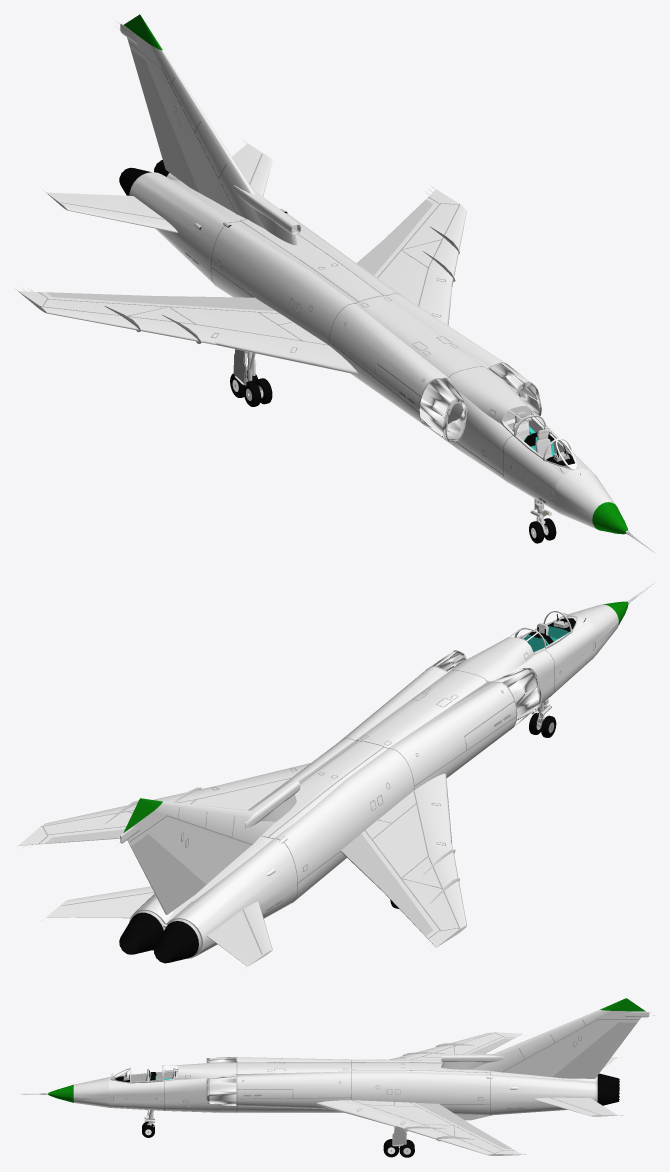
Rendered from deadPlane.fbx.
3 views of the same model, one above another, from view 1: azimuth 30°, elevation 25°; view 2: azimuth 150°, elevation 25°; view 3: azimuth 270°, elevation 25° (orthographic). The views are drawn at different scales.
Parts seen in each view (by area): view 1: J-2 000_mesh; view 2: J-2 000_mesh; view 3: J-2 000_mesh.
Boxes of the visible parts, x1,y1,x2,y2 form: J-2 000_mesh: (15, 14, 655, 553); J-2 000_mesh: (14, 582, 655, 968); J-2 000_mesh: (15, 998, 655, 1157).
Size of the model in its own units: 1303 by 687 by 2905.
